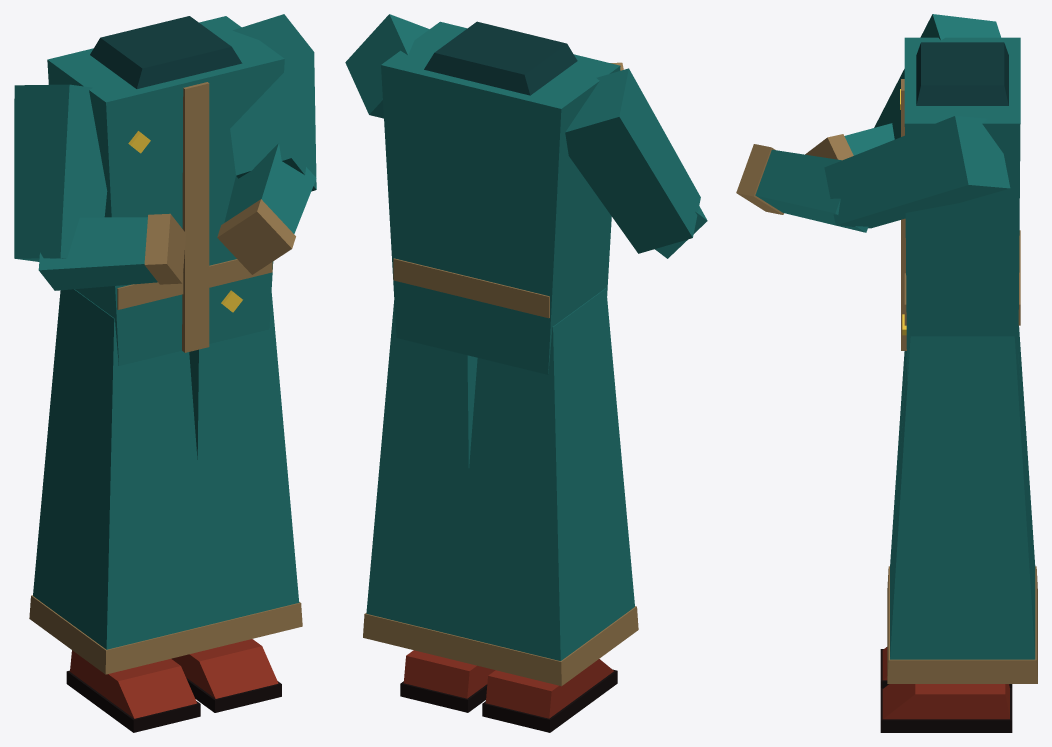
Rendered from gear_body_wizard_robes.glb.
3 renders of one model, left to right at view 1: azimuth 30°, elevation 25°; view 2: azimuth 150°, elevation 25°; view 3: azimuth 270°, elevation 25°, orthographic. The views are drawn at different scales.
Visible parts, largest first — view 1: skirt_r, torso, skirt_l, arm_r, arm_l, arm_r_lower, arm_l_lower, leg_r_lower, leg_l_lower; view 2: torso, skirt_r, skirt_l, arm_r, leg_r_lower, leg_l_lower, arm_l; view 3: skirt_l, torso, arm_l, leg_l_lower, arm_l_lower, arm_r, skirt_r, arm_r_lower.
Part boxes in pixels (left/top/right/bottom): skirt_r: left=29, top=289, right=213, bottom=674; torso: left=47, top=16, right=284, bottom=365; skirt_l: left=189, top=293, right=302, bottom=651; arm_r: left=14, top=84, right=107, bottom=261; arm_l: left=230, top=14, right=316, bottom=191; arm_r_lower: left=38, top=213, right=185, bottom=290; arm_l_lower: left=217, top=143, right=316, bottom=274; leg_r_lower: left=66, top=650, right=200, bottom=732; leg_l_lower: left=171, top=639, right=281, bottom=712; torso: left=381, top=21, right=620, bottom=374; skirt_r: left=454, top=288, right=638, bottom=686; skirt_l: left=363, top=300, right=477, bottom=664; arm_r: left=565, top=68, right=700, bottom=253; leg_r_lower: left=482, top=659, right=617, bottom=732; leg_l_lower: left=400, top=650, right=495, bottom=712; arm_l: left=345, top=14, right=429, bottom=118; skirt_l: left=887, top=336, right=1037, bottom=683; torso: left=900, top=37, right=1020, bottom=380; arm_l: left=824, top=116, right=1010, bottom=228; leg_l_lower: left=880, top=684, right=1012, bottom=732; arm_l_lower: left=736, top=144, right=868, bottom=232; arm_r: left=874, top=14, right=1000, bottom=139; skirt_r: left=887, top=326, right=1037, bottom=631; arm_r_lower: left=805, top=123, right=894, bottom=160.
Bounding box in the file's own units: 0.7929 × 1.52 × 0.6519.
